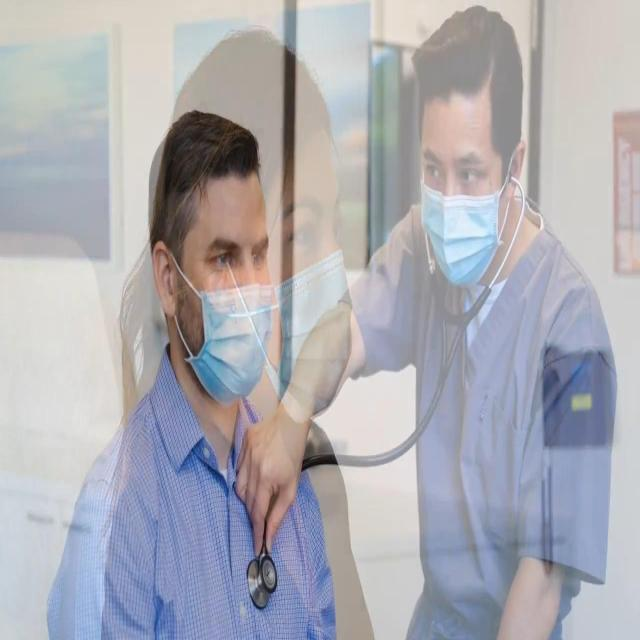Mask: (259, 123, 353, 422), (174, 175, 273, 404), (419, 97, 505, 287)
